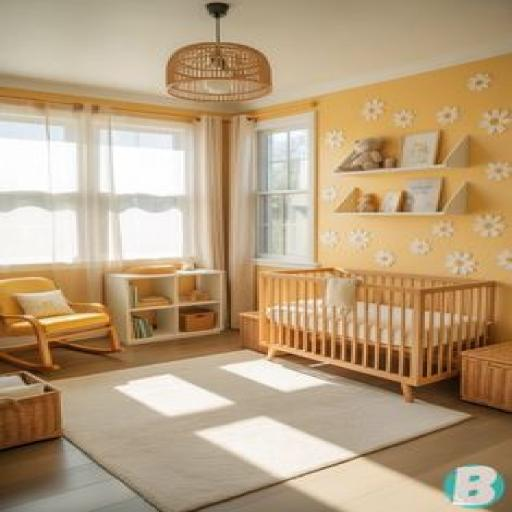crib: (260, 266, 496, 400)
